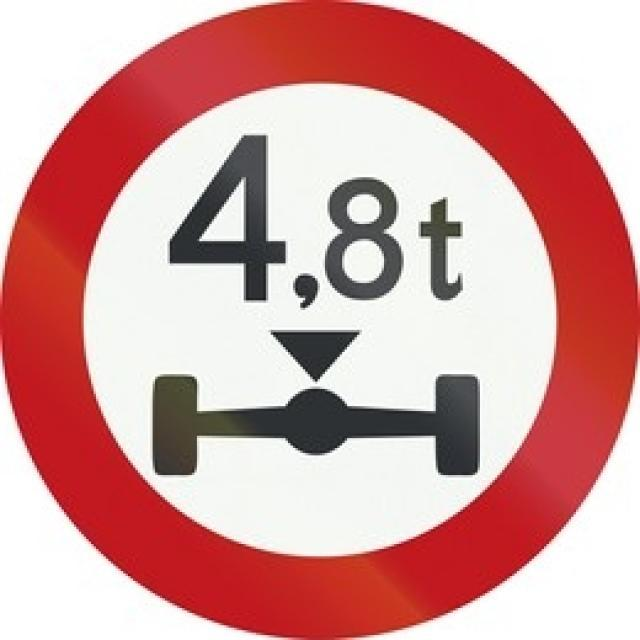axle load limit: (10, 10, 632, 631)
